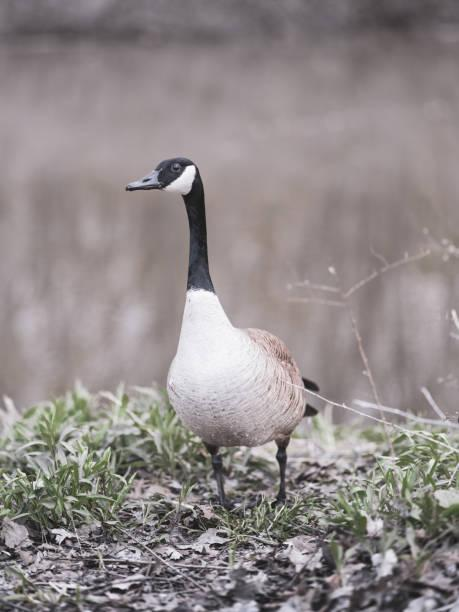Canadian-Goose: (126, 150, 324, 498)
